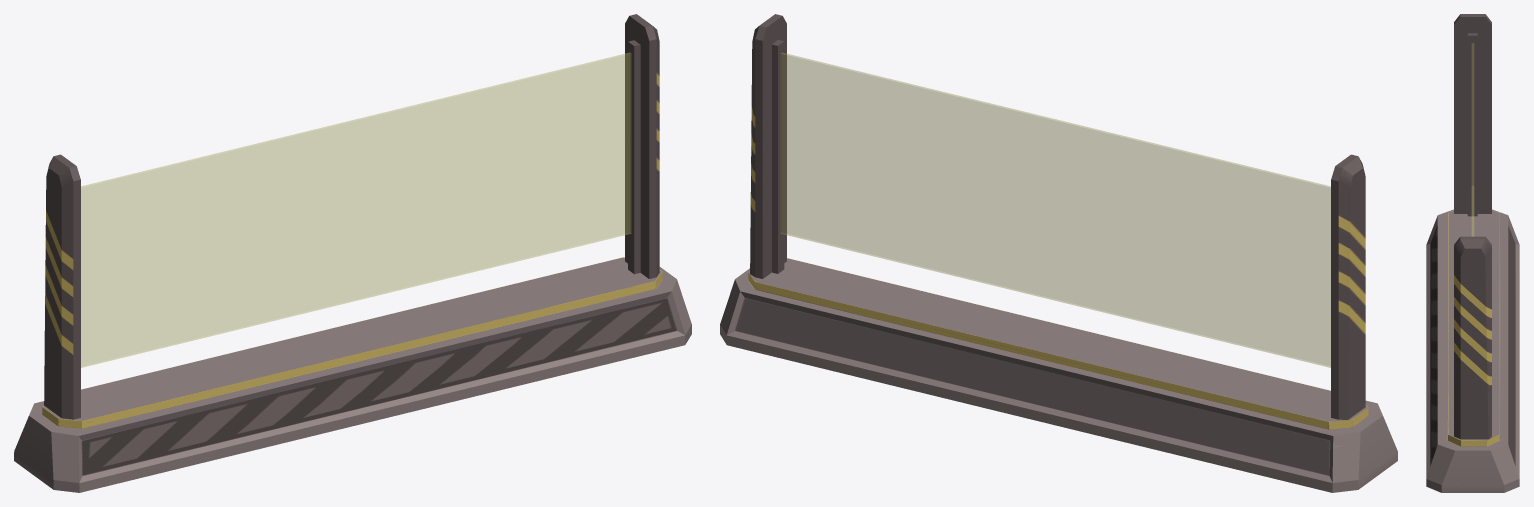
The model's file is fence_long.fbx.
3 renders of one model, left to right at view 1: azimuth 30°, elevation 25°; view 2: azimuth 150°, elevation 25°; view 3: azimuth 270°, elevation 25°, orthographic. The views are drawn at different scales.
Visible parts, largest first — view 1: pCube6; view 2: pCube6; view 3: pCube6.
Boxes of the visible parts, x1,y1,x2,y2 form: pCube6: [14, 14, 691, 492]; pCube6: [720, 14, 1397, 492]; pCube6: [1426, 14, 1519, 492].
Bounding box in the file's own units: 43.48 × 19.95 × 6.94.
2 materials, 1 textured.
